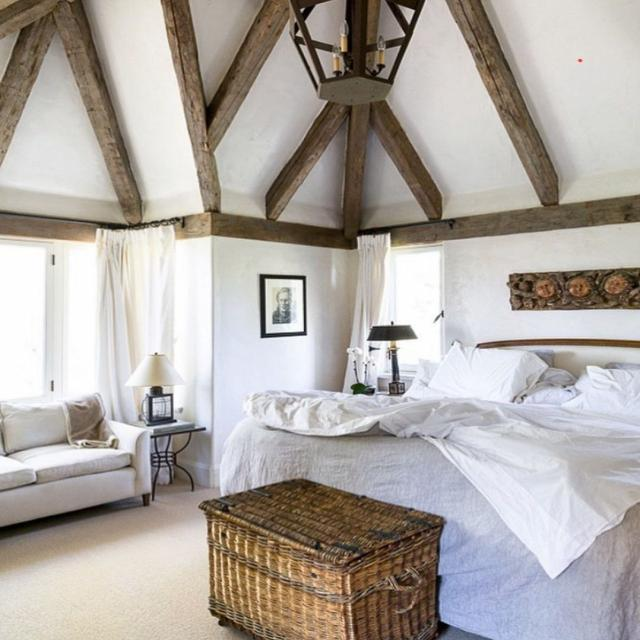bed: (230, 341, 640, 640)
